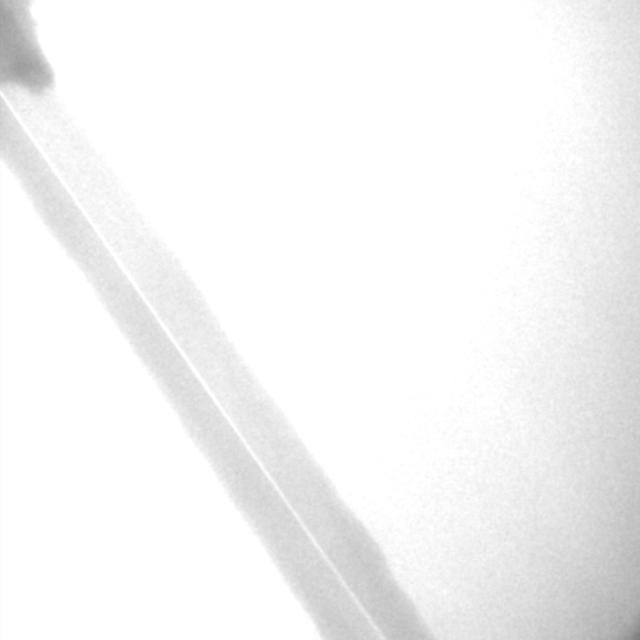broken arc: (2, 94, 383, 637)
